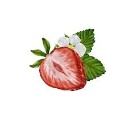strawberry: (31, 39, 94, 92)
